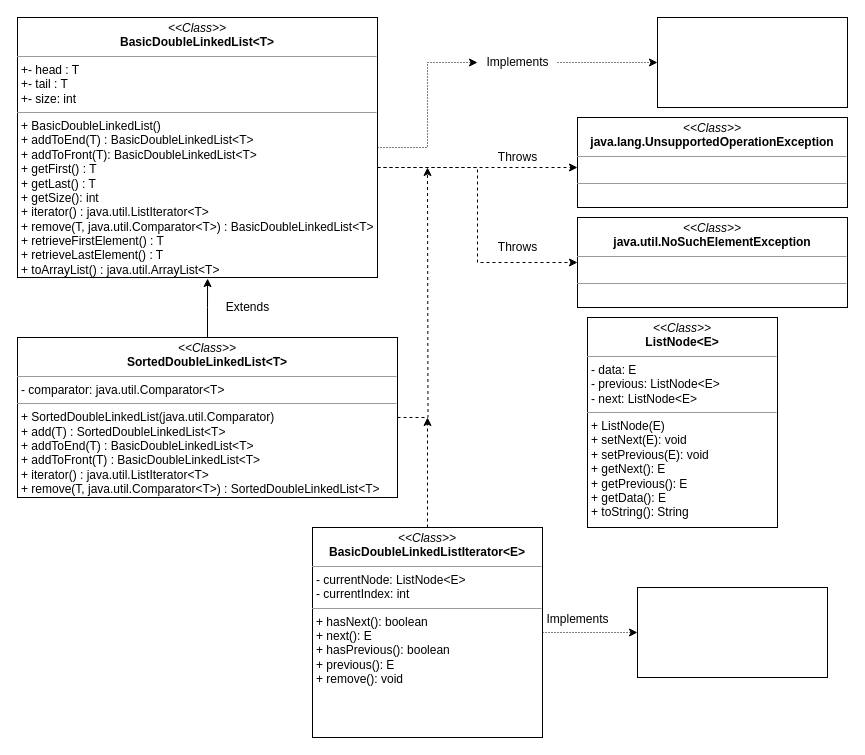
This 865x755 diagram has some shape labels left out. The shapes that lost their labels are listed below. From the top down, each one's centre as x and y in pixels, then its label:
At point 752,62: "<<Interface>> java.lang.Iterable<T>".
At point 732,632: "<<Interface>> java.util.ListIterator<E>".
